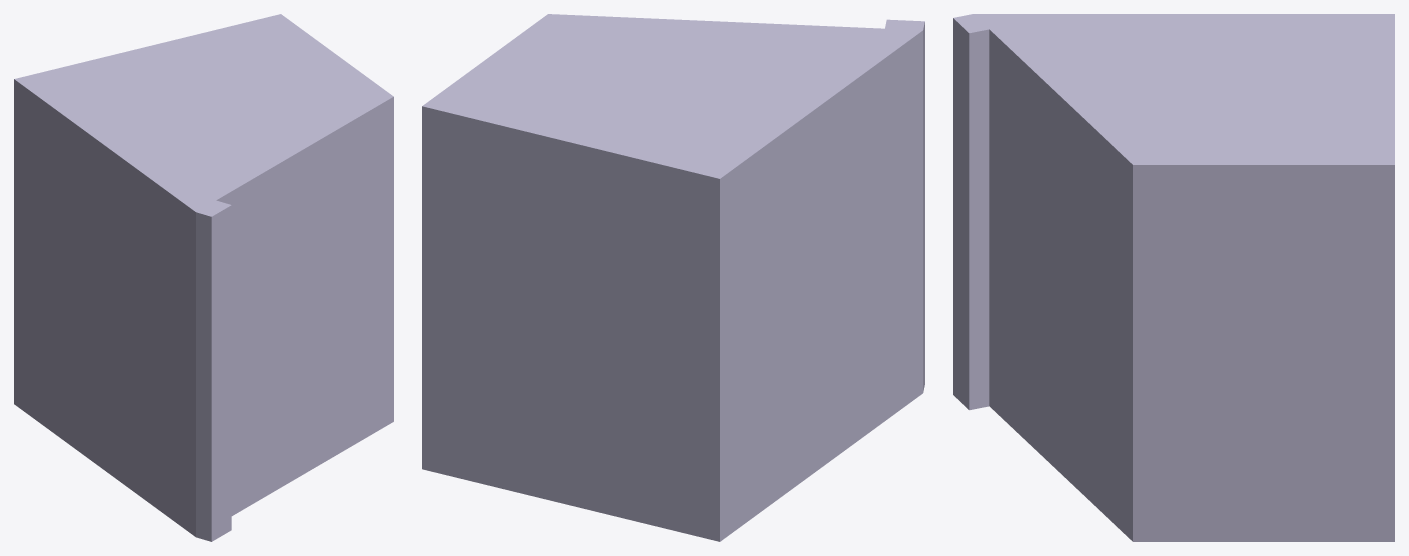
Rendered from DoorSnapper.fbx.
3 views of the same model, side by side, from view 1: azimuth 30°, elevation 25°; view 2: azimuth 150°, elevation 25°; view 3: azimuth 270°, elevation 25° (orthographic). The views are drawn at different scales.
Visible parts, largest first — view 1: DoorSnapper; view 2: DoorSnapper; view 3: DoorSnapper.
Boxes of the visible parts, x1,y1,x2,y2 form: DoorSnapper: (14,14,393,541); DoorSnapper: (422,14,924,541); DoorSnapper: (953,14,1394,541).
Size of the model in its own units: 3.74 by 4.36 by 4.63.
